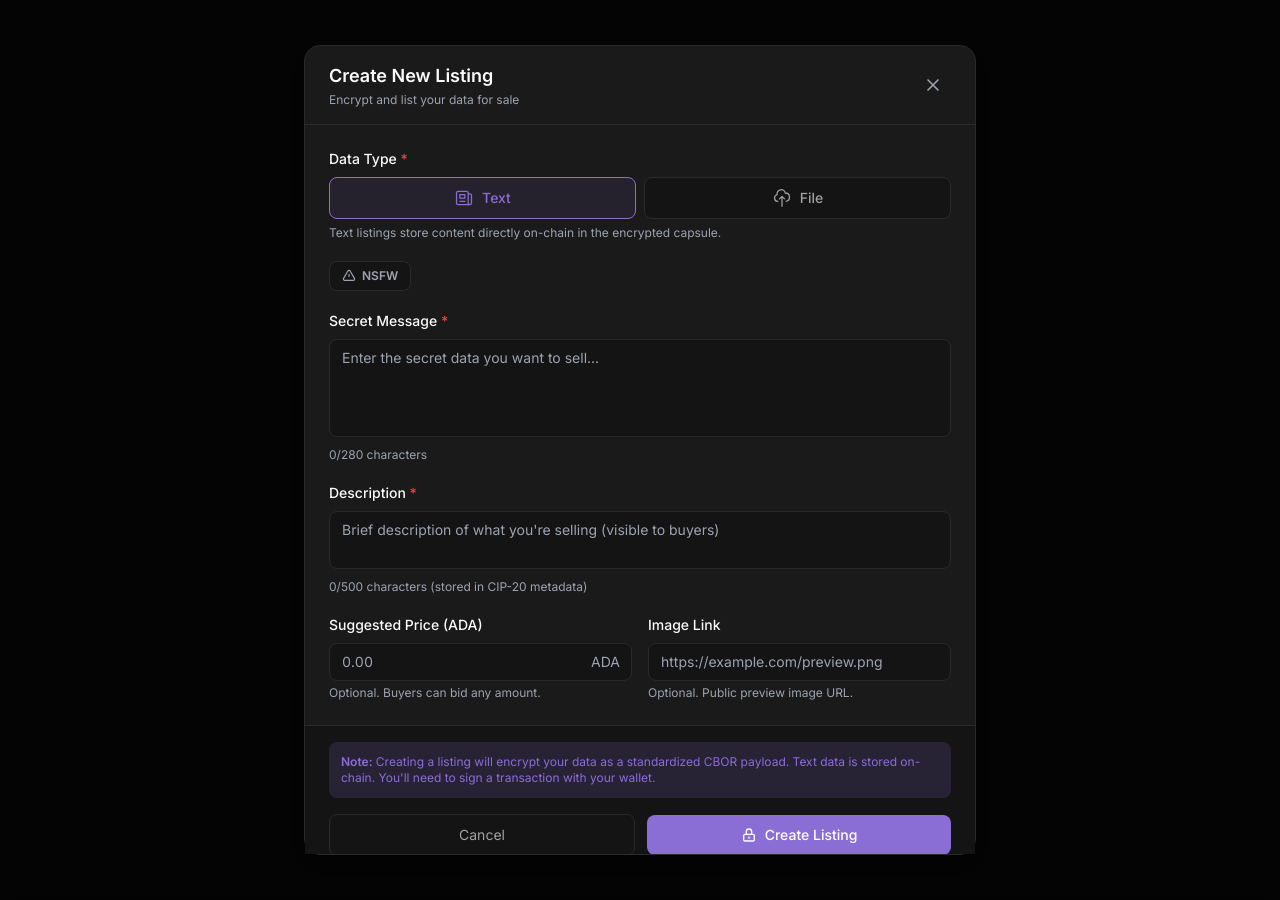
CreateListingModal › switches to file mode when File button is clicked
Click the button "File". click: [798, 198]
box: x1=644 y1=177 x2=951 y2=219
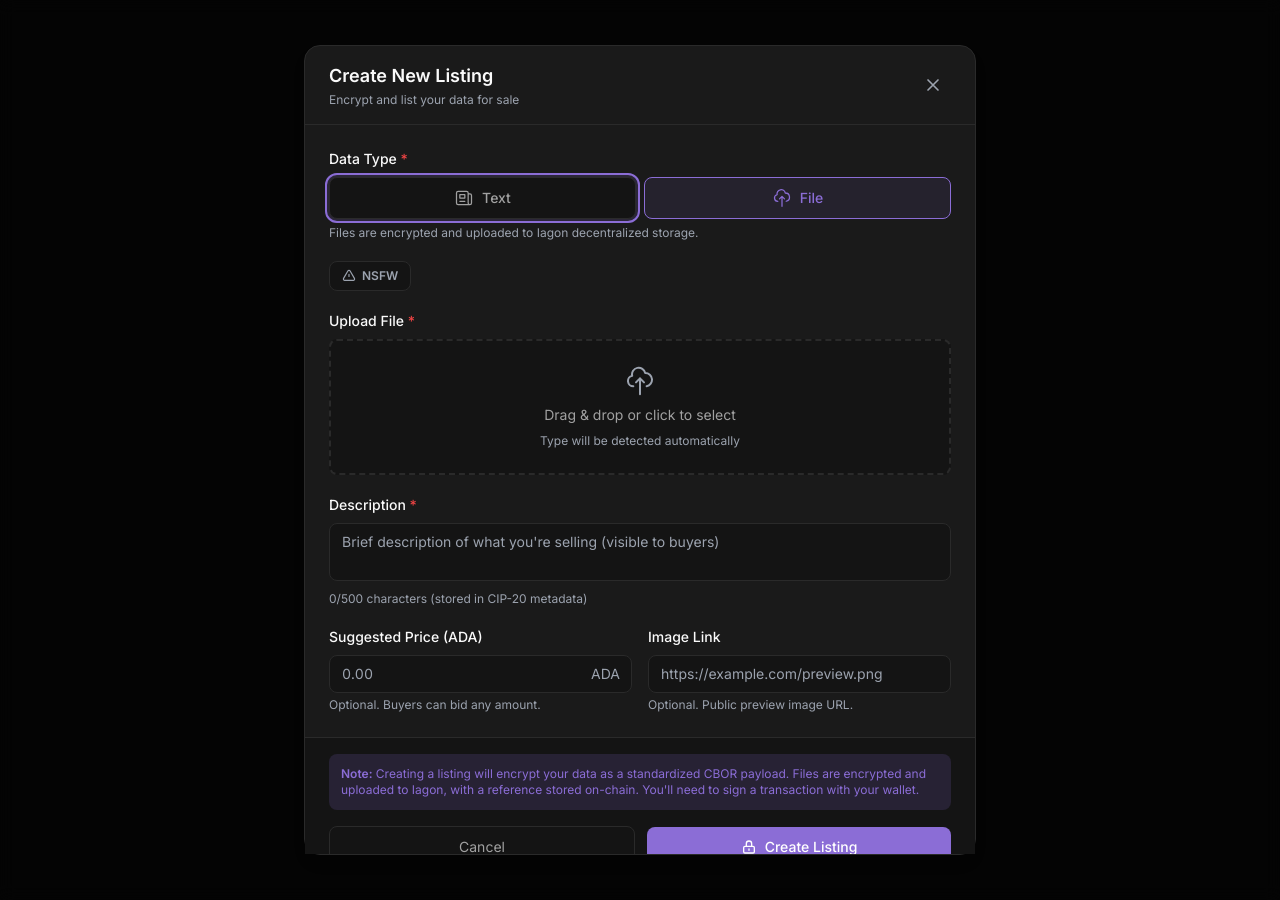
Check: the label labelled "Secret Message" is gone
Check: the text "Drag & drop or click to select" is shown, box x1=544 y1=405 x2=736 y2=425
